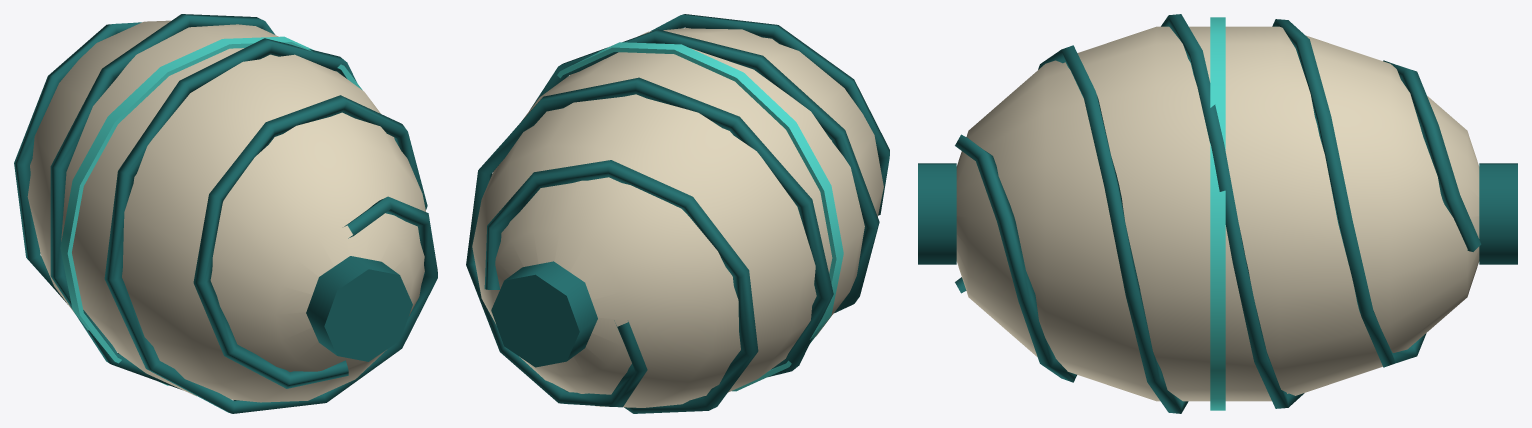
The model's file is k12_field.obj.
3 views of the same model, side by side, from view 1: azimuth 30°, elevation 25°; view 2: azimuth 150°, elevation 25°; view 3: azimuth 270°, elevation 25° (orthographic). The views are drawn at different scales.
Parts seen in each view (by area): view 1: k12_field; view 2: k12_field; view 3: k12_field.
Part boxes in pixels (box(x1,y1,x2,y2)): k12_field: box(14, 14, 437, 413); k12_field: box(466, 14, 889, 413); k12_field: box(918, 14, 1517, 413).
Size of the model in its own units: 1.63 by 1.64 by 2.48.
